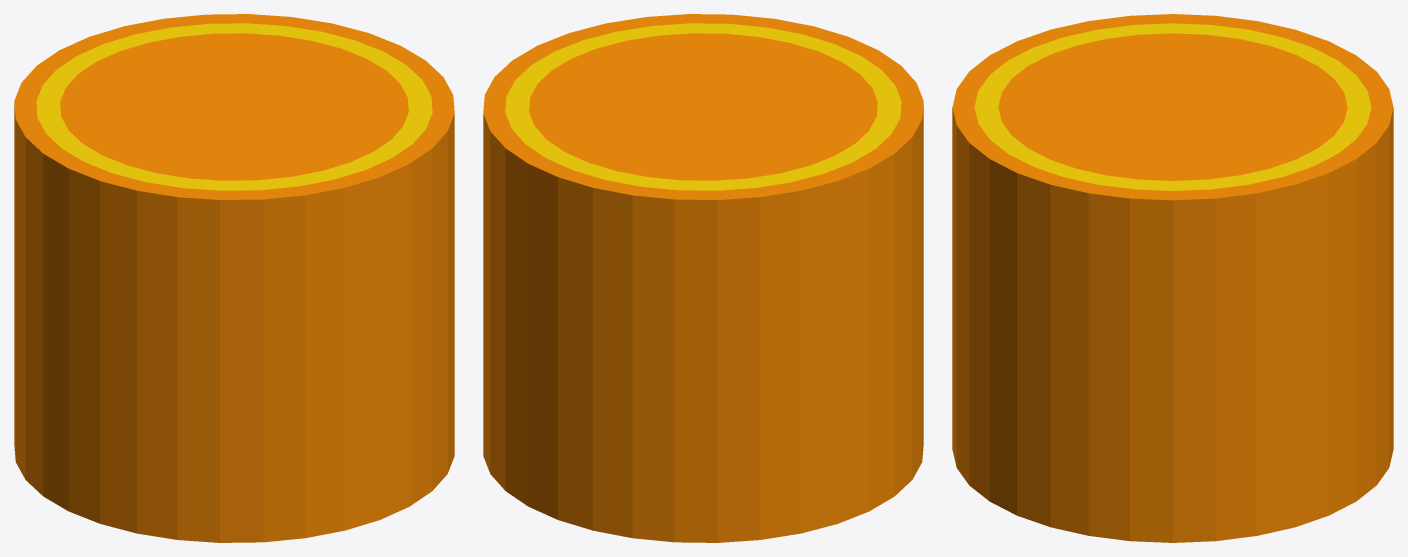
The model's file is Floor4.fbx.
3 views of the same model, side by side, from view 1: azimuth 30°, elevation 25°; view 2: azimuth 150°, elevation 25°; view 3: azimuth 270°, elevation 25° (orthographic).
Visible parts, largest first — view 1: Circle; view 2: Circle; view 3: Circle.
Part boxes in pixels (x1,y1,x2,y2): Circle: (14,14,454,542); Circle: (483,14,923,542); Circle: (952,14,1393,542).
Size of the model in its own units: 1400 by 1200 by 1400.
